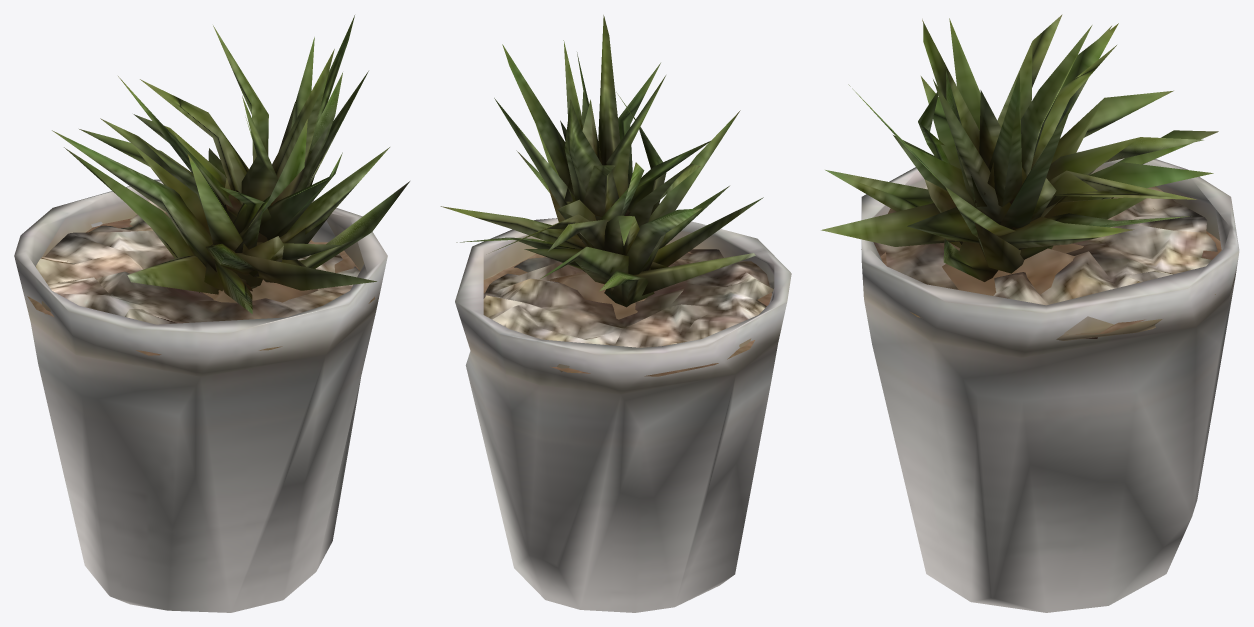
Rendered from potted_plant_04.glb.
3 renders of one model, left to right at view 1: azimuth 30°, elevation 25°; view 2: azimuth 150°, elevation 25°; view 3: azimuth 270°, elevation 25°, orthographic. The views are drawn at different scales.
Visible parts, largest first — view 1: potted_plant_04_pot, potted_plant_04_plant, potted_plant_04_ground, potted_plant_04_dirt; view 2: potted_plant_04_pot, potted_plant_04_plant, potted_plant_04_ground, potted_plant_04_dirt; view 3: potted_plant_04_pot, potted_plant_04_plant, potted_plant_04_ground, potted_plant_04_dirt.
Part boxes in pixels (bbox=[...]): potted_plant_04_pot: bbox=[14, 179, 387, 612]; potted_plant_04_plant: bbox=[52, 15, 409, 313]; potted_plant_04_ground: bbox=[36, 200, 359, 324]; potted_plant_04_dirt: bbox=[27, 212, 375, 355]; potted_plant_04_pot: bbox=[455, 218, 791, 612]; potted_plant_04_plant: bbox=[440, 15, 763, 307]; potted_plant_04_ground: bbox=[483, 249, 773, 347]; potted_plant_04_dirt: bbox=[483, 245, 772, 376]; potted_plant_04_pot: bbox=[861, 151, 1239, 612]; potted_plant_04_plant: bbox=[821, 14, 1218, 281]; potted_plant_04_ground: bbox=[873, 186, 1217, 338]; potted_plant_04_dirt: bbox=[861, 208, 1221, 334].
Bounding box in the file's own units: 0.1643 × 0.2671 × 0.175.
Materials: 1 (1 with a texture image).
